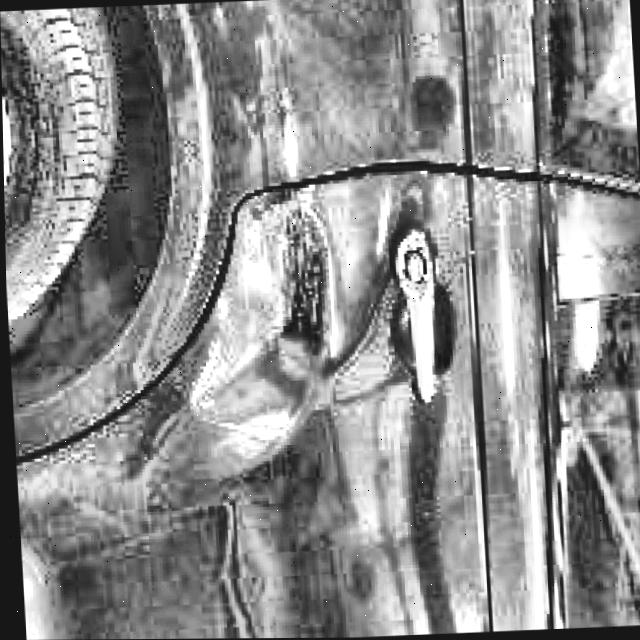door_dent: (173, 199, 338, 443)
